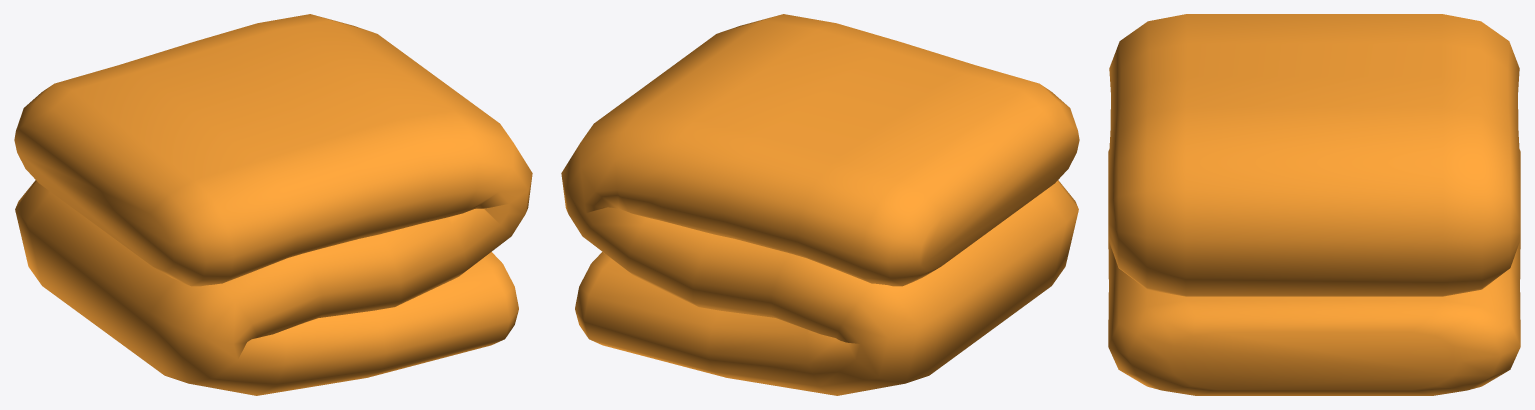
File: bedding.fbx
The picture shows the model from 3 angles, left to right: view 1: azimuth 30°, elevation 25°; view 2: azimuth 150°, elevation 25°; view 3: azimuth 270°, elevation 25°; orthographic projection. The views are drawn at different scales.
Visible parts, largest first — view 1: bedding; view 2: bedding; view 3: bedding.
Part boxes in pixels (<box>): bedding: <box>14,14,532,395</box>; bedding: <box>561,14,1079,395</box>; bedding: <box>1108,14,1520,395</box>.
Bounding box in the file's own units: 0.4754 × 0.2928 × 0.4374.
